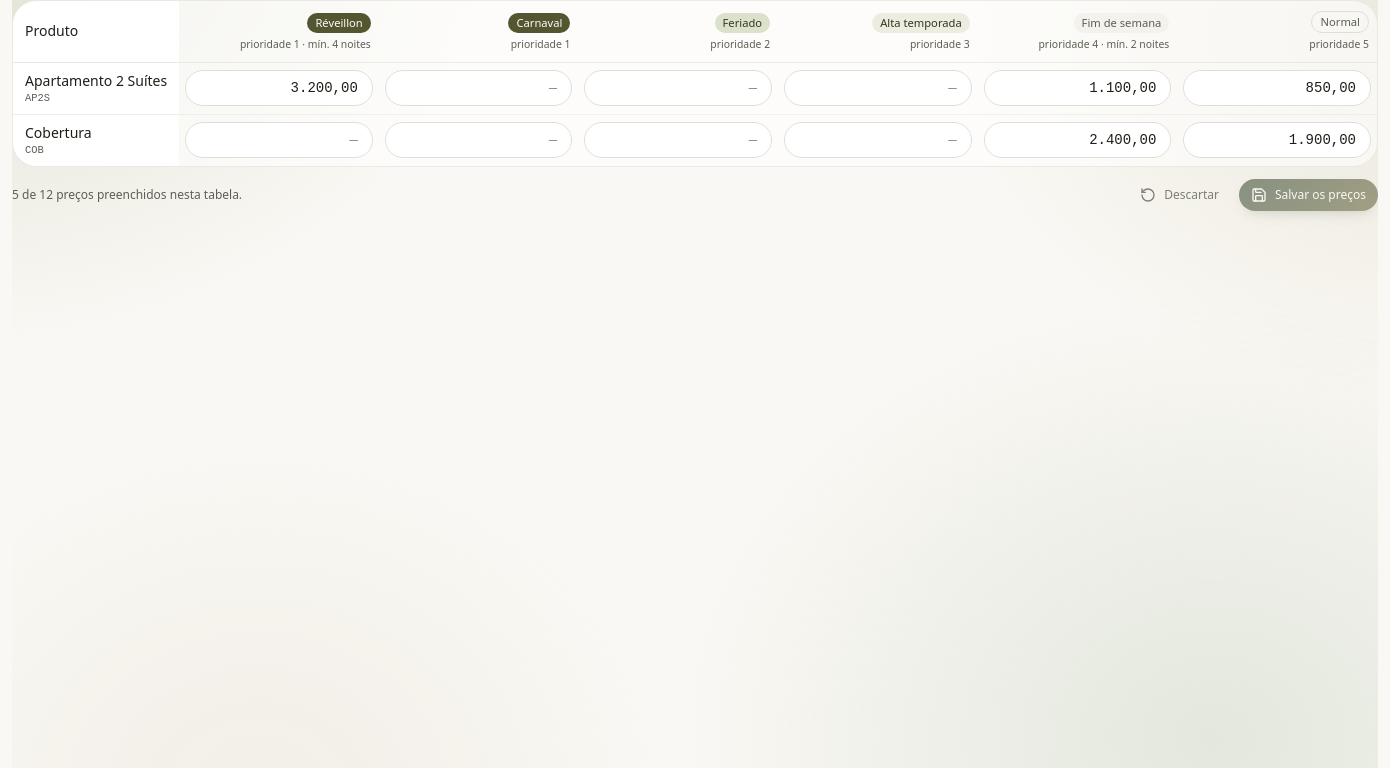
Test: GradeDeTarifas › recusa apagar a grade inteira
Step 1. Clear the field named "Apartamento 2 Suítes — Normal" → (1277, 88), box top-left (1183, 70), bottom-right (1371, 106)
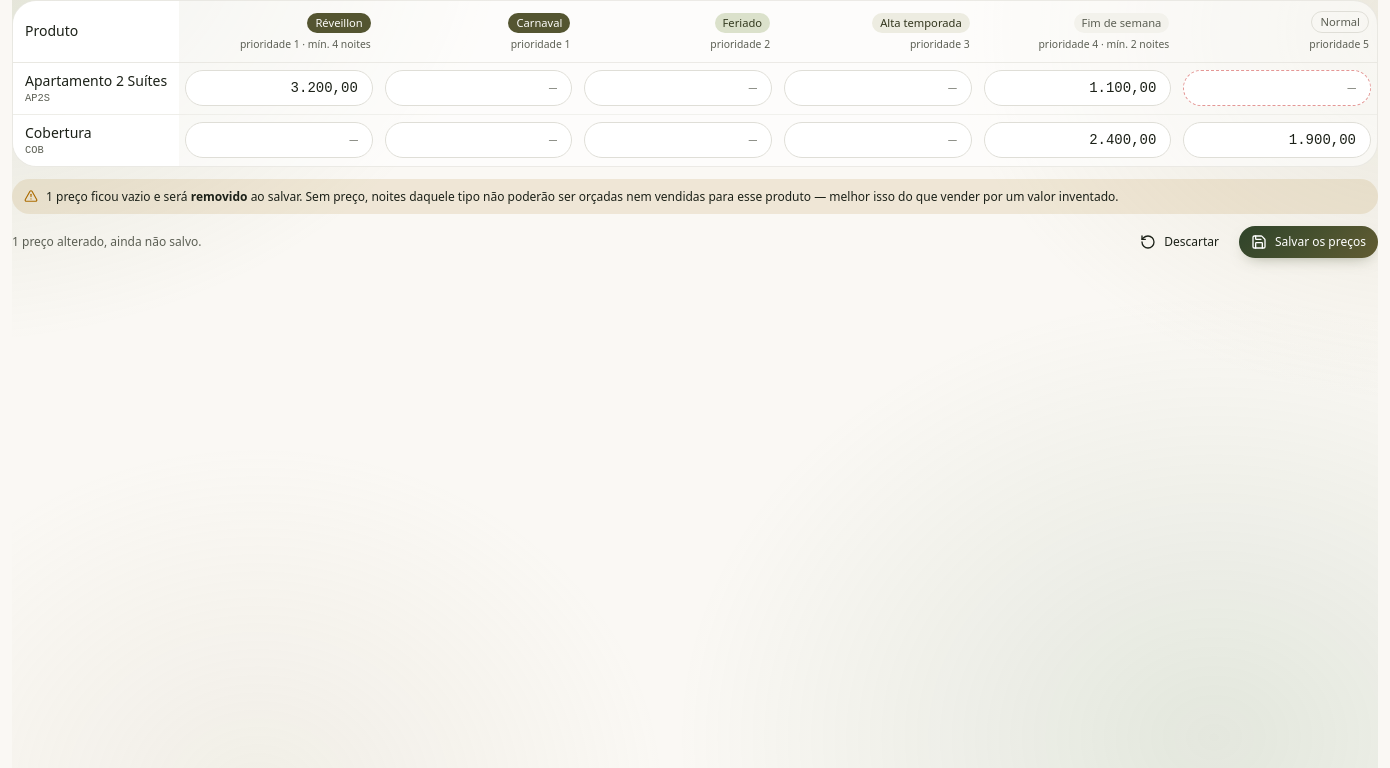
Step 2. Clear the field named "Apartamento 2 Suítes — Fim de semana" → (1078, 88), box top-left (984, 70), bottom-right (1171, 106)
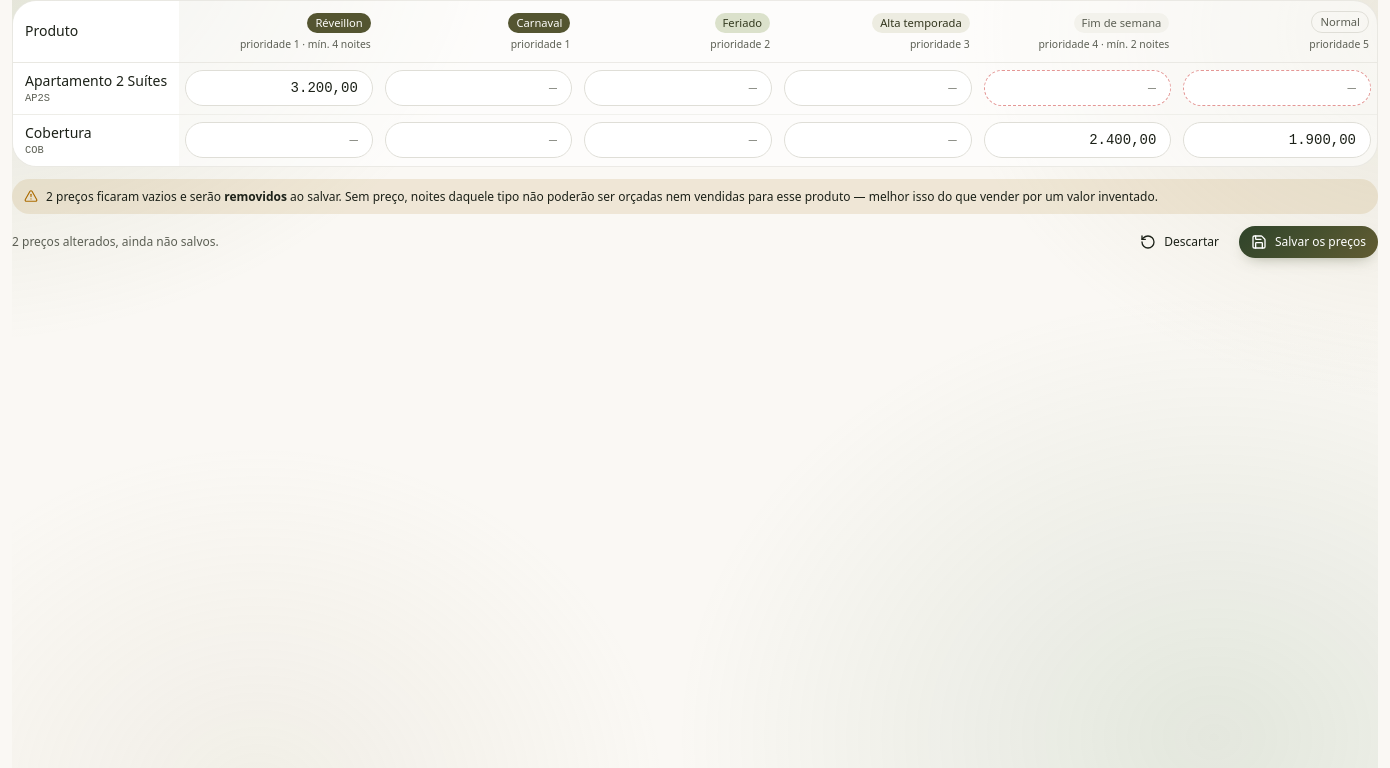
Step 3. Clear the field named "Apartamento 2 Suítes — Réveillon" → (279, 88), box top-left (185, 70), bottom-right (373, 106)
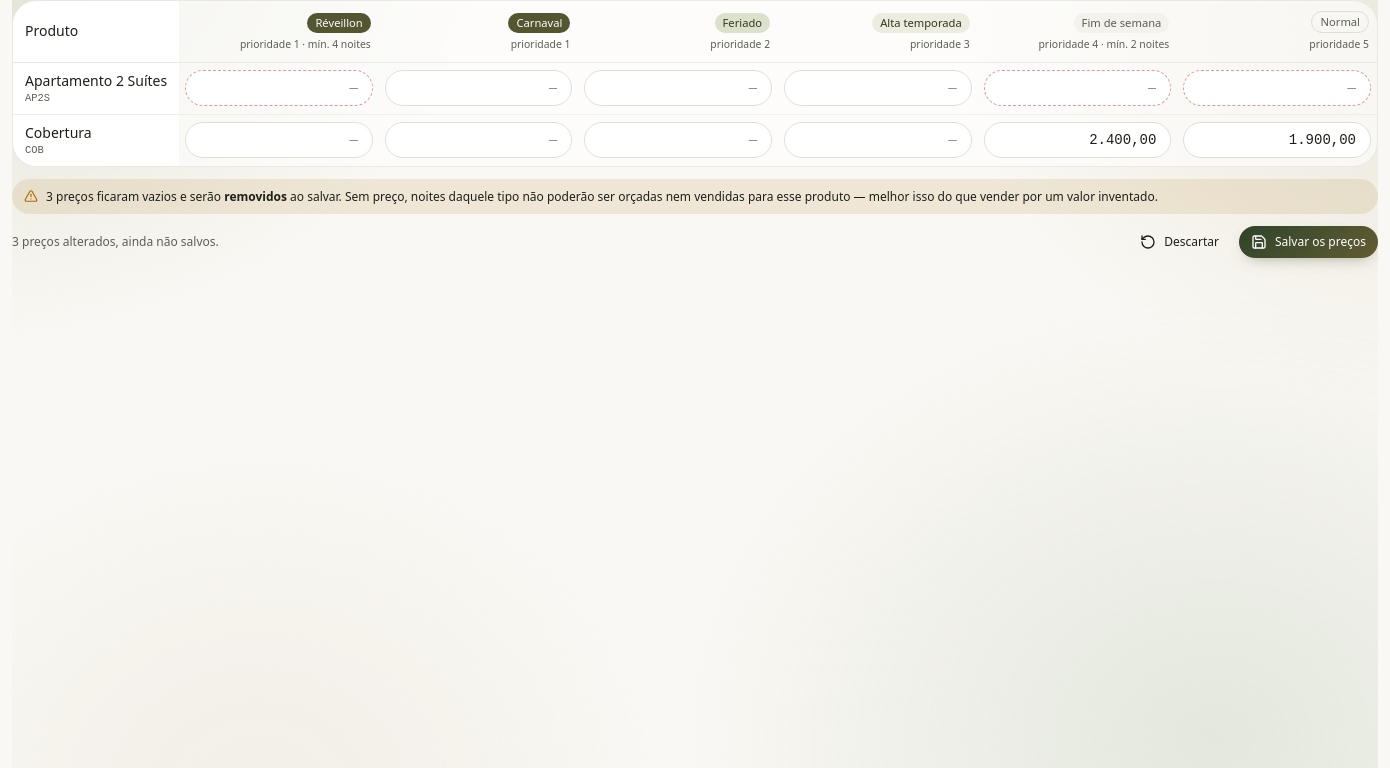
Step 4. Clear the field named "Cobertura — Normal" → (1277, 140), box top-left (1183, 122), bottom-right (1371, 158)
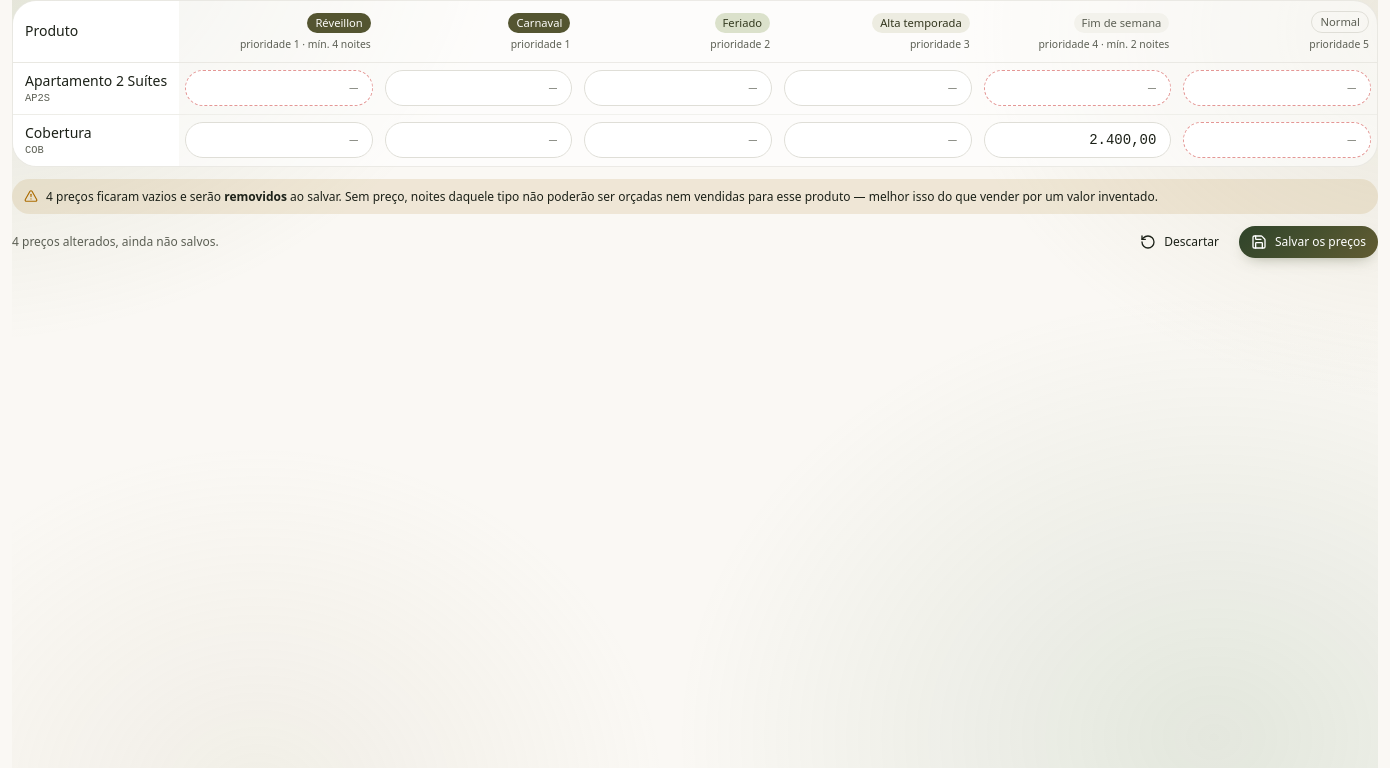
Step 5. Clear the field named "Cobertura — Fim de semana" → (1078, 140), box top-left (984, 122), bottom-right (1171, 158)
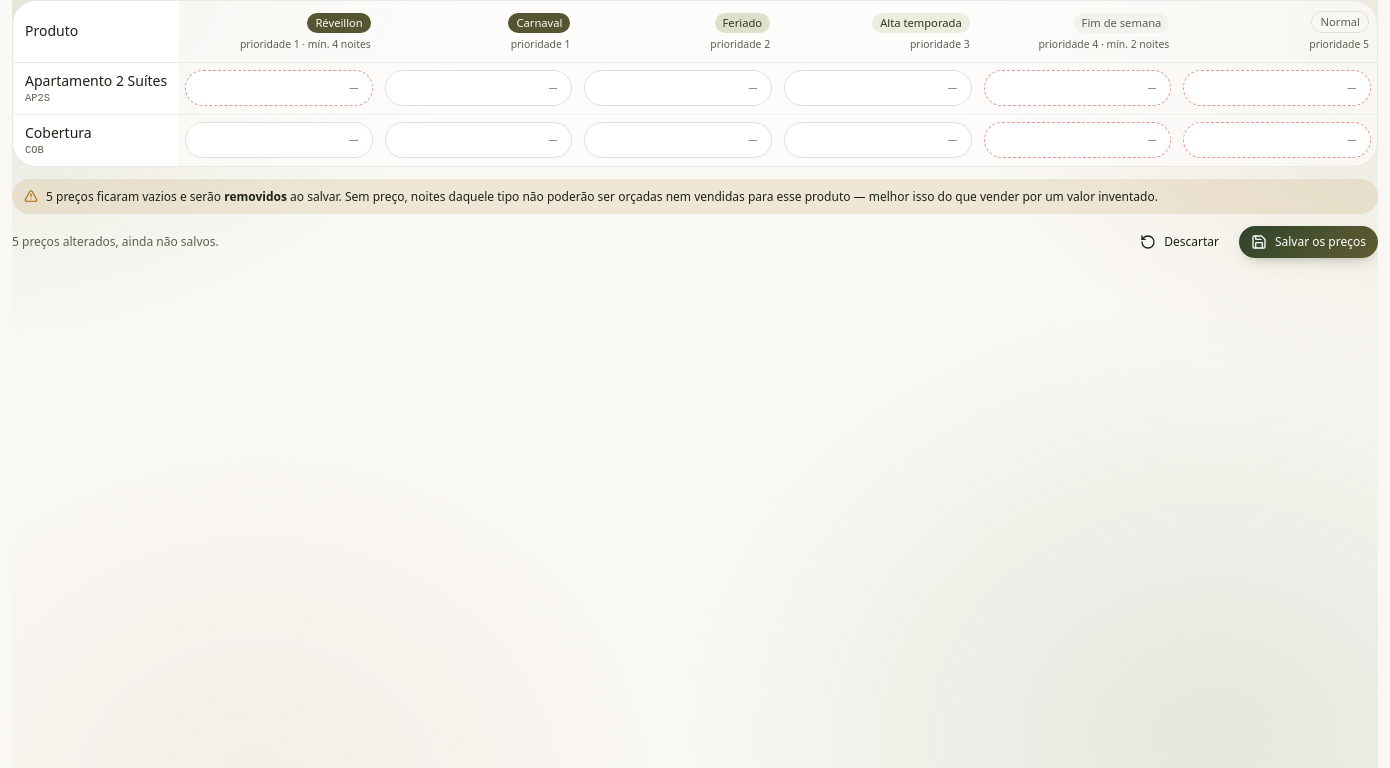
Step 6. Click the button "Salvar os preços" → (1308, 242), box top-left (1239, 226), bottom-right (1378, 258)
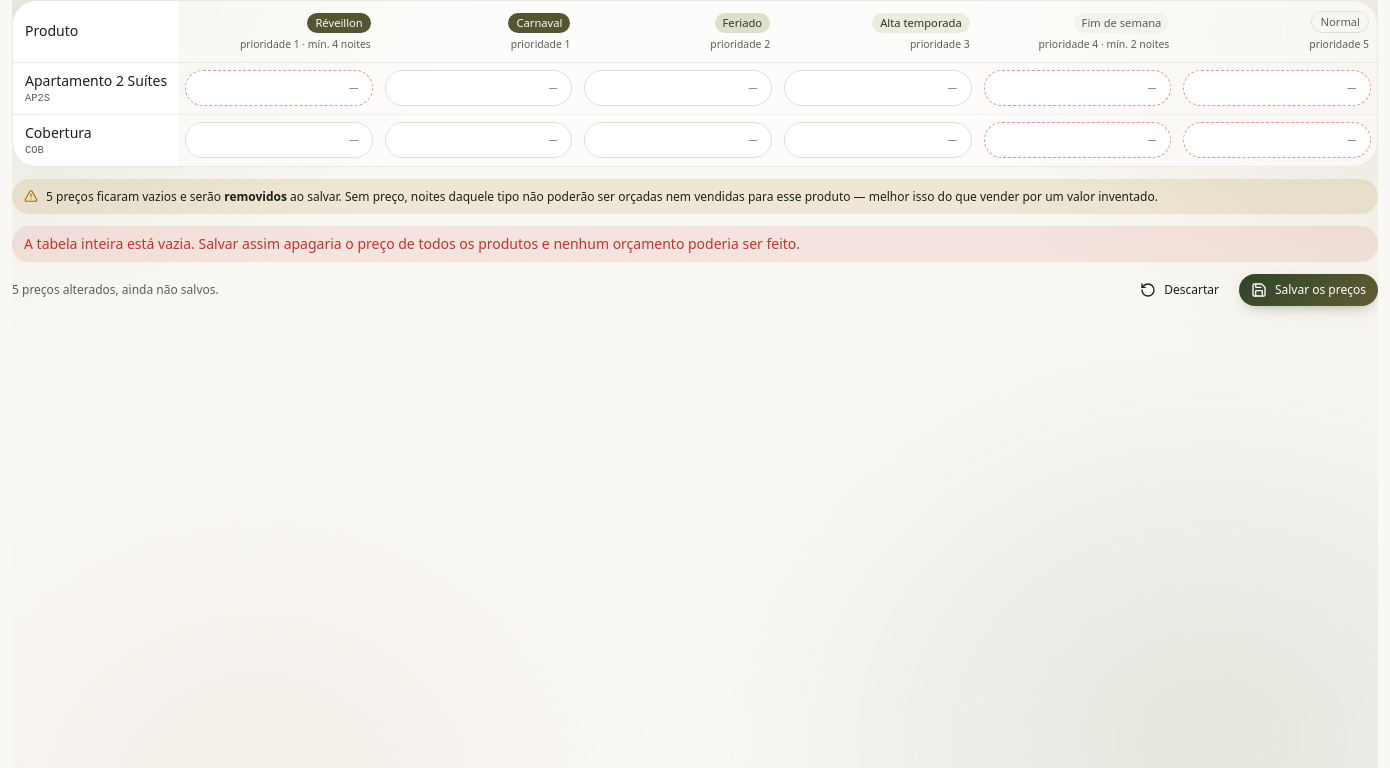
Expected: the message shows "nenhum orçamento poderia ser feito", top-left (24, 234), bottom-right (800, 253)
